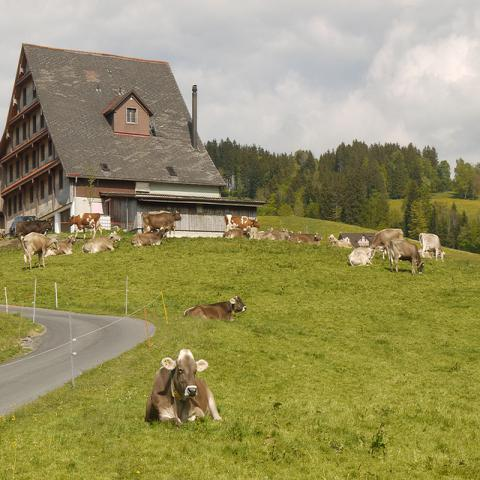car: (9, 216, 36, 237)
